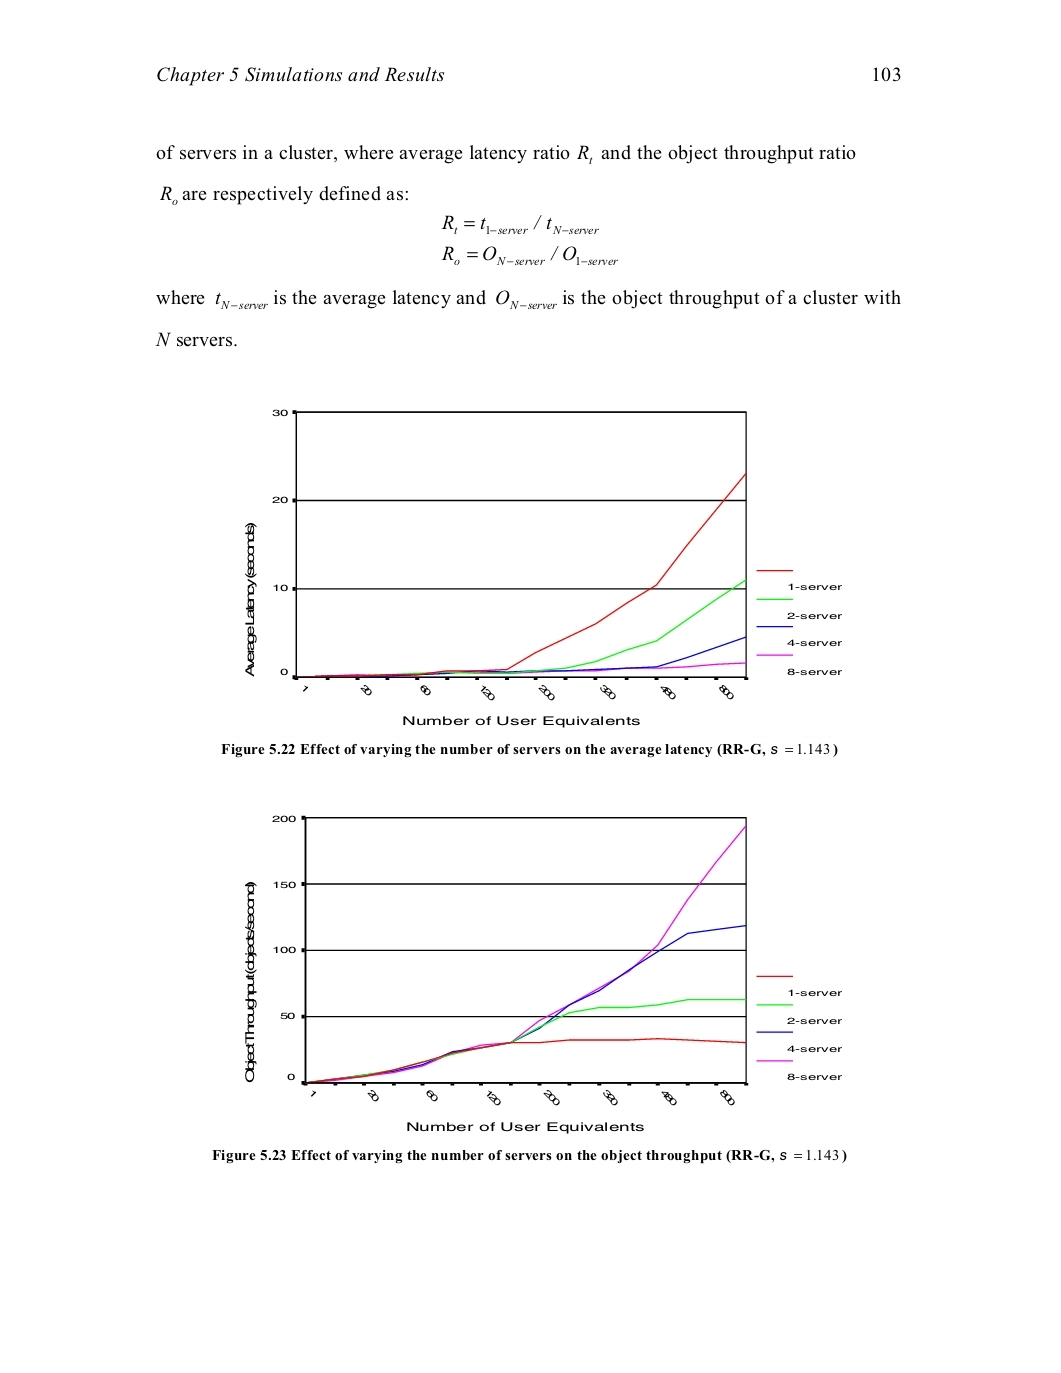figure: (245, 815, 841, 1133), (245, 409, 841, 727)
formula: (441, 245, 617, 266), (441, 214, 598, 235)
